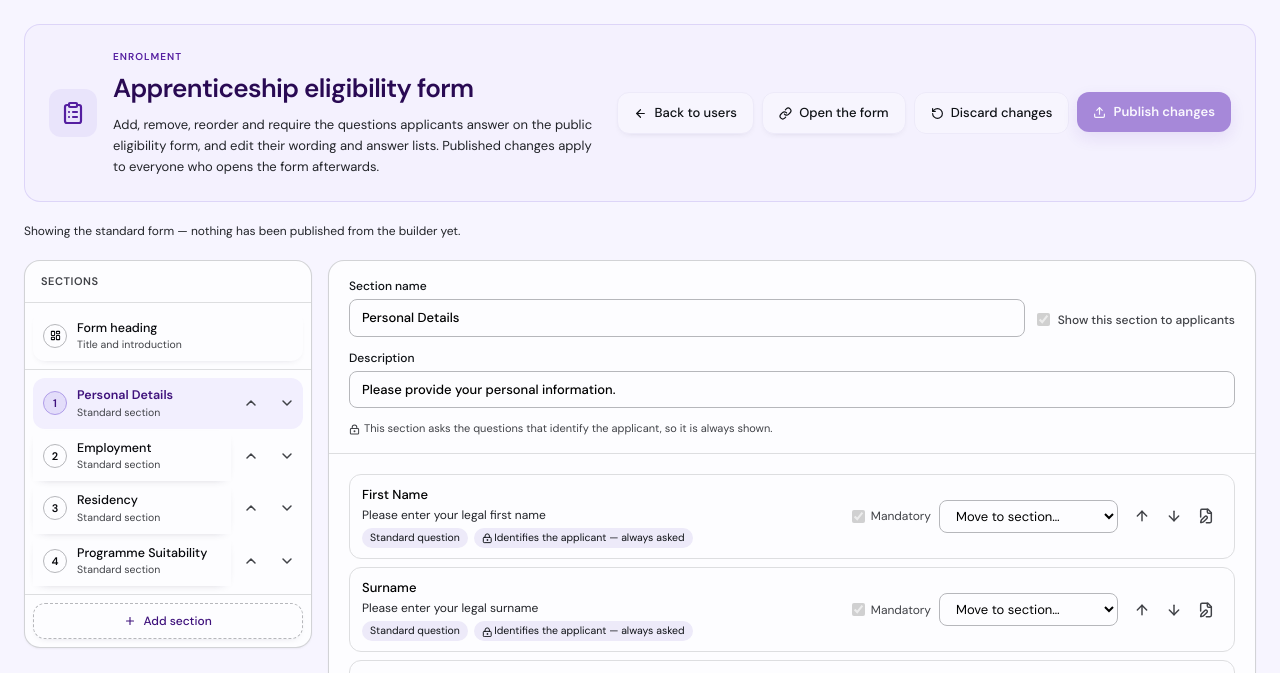
Test: builder page › will not publish a form with a problem
Clear the field labelled "Section name" at (687, 318), box [349, 299, 1025, 337]
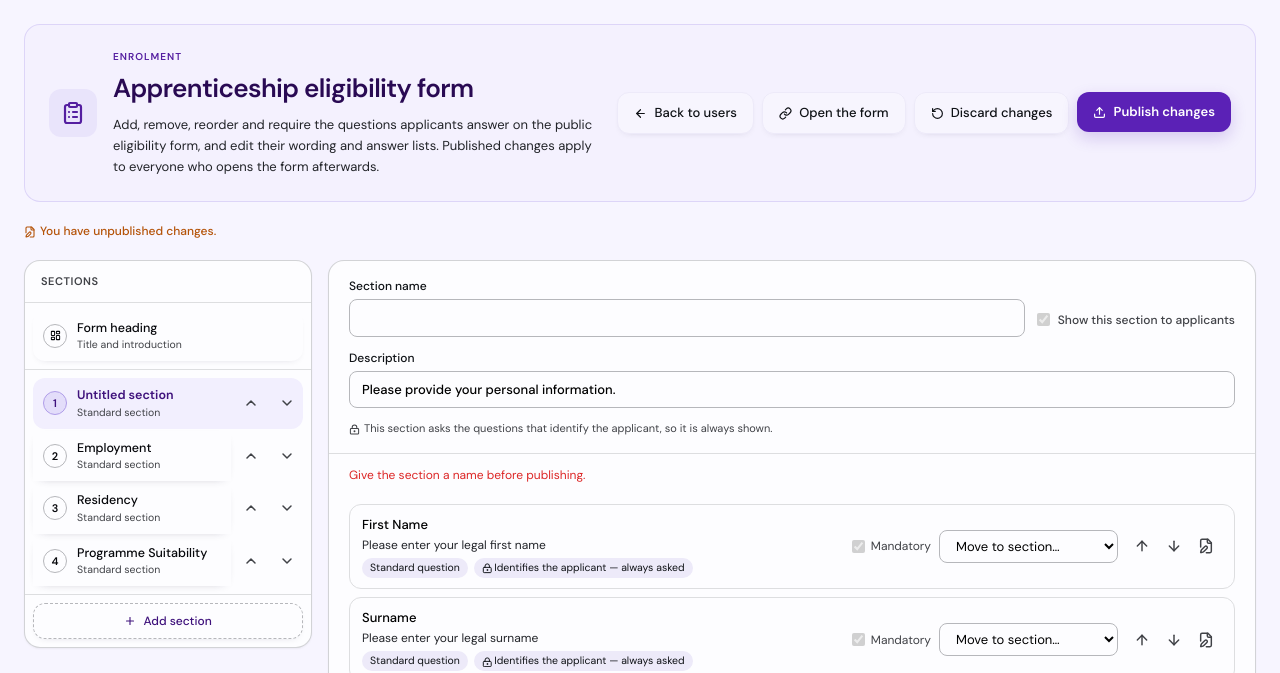
Click the button "Publish changes" at (1154, 112), box [1077, 92, 1231, 132]
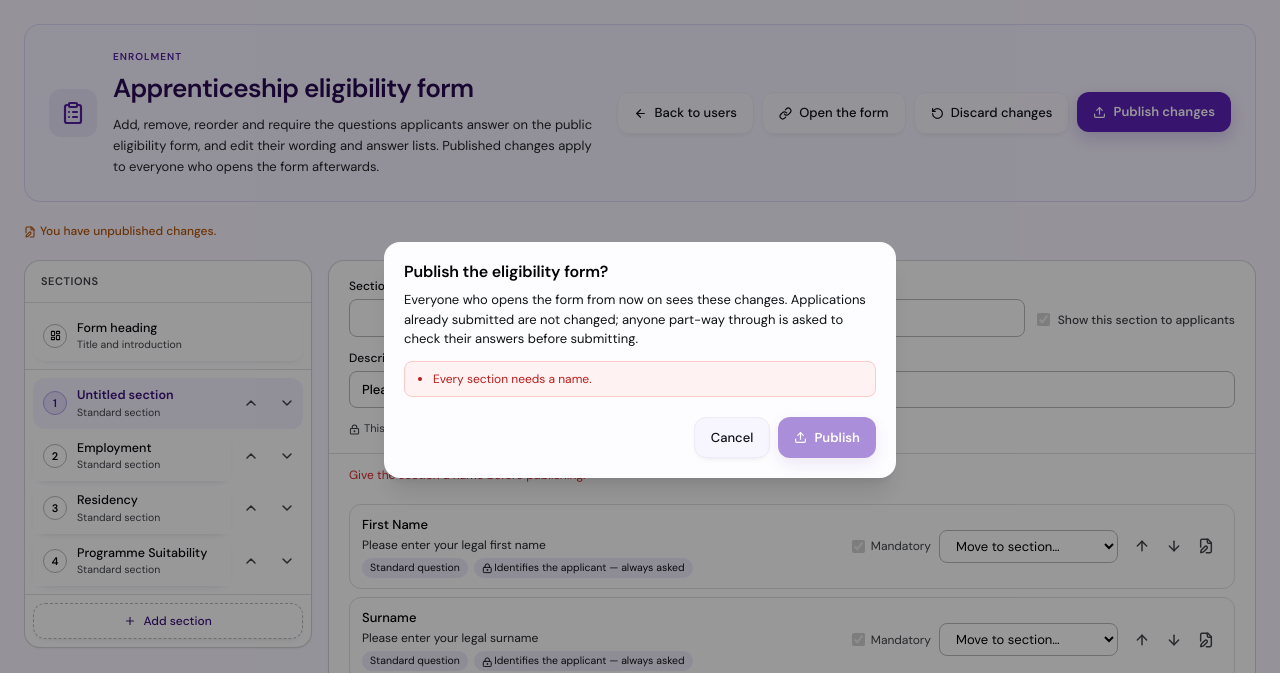
Expected: the list item "Every section needs a name." is shown, [433, 371, 592, 387]
Expected: the button "Publish" is disabled, [778, 417, 876, 458]
